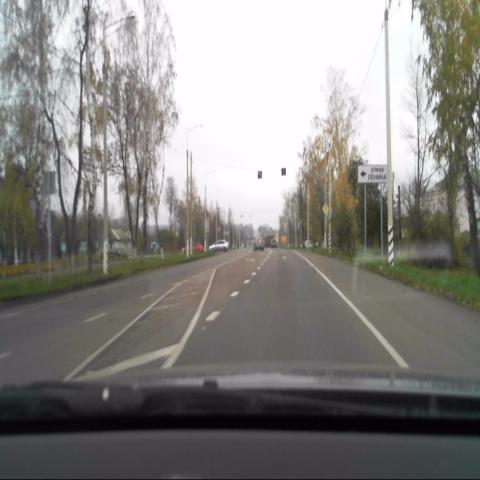2_1: (322, 202, 329, 215)
